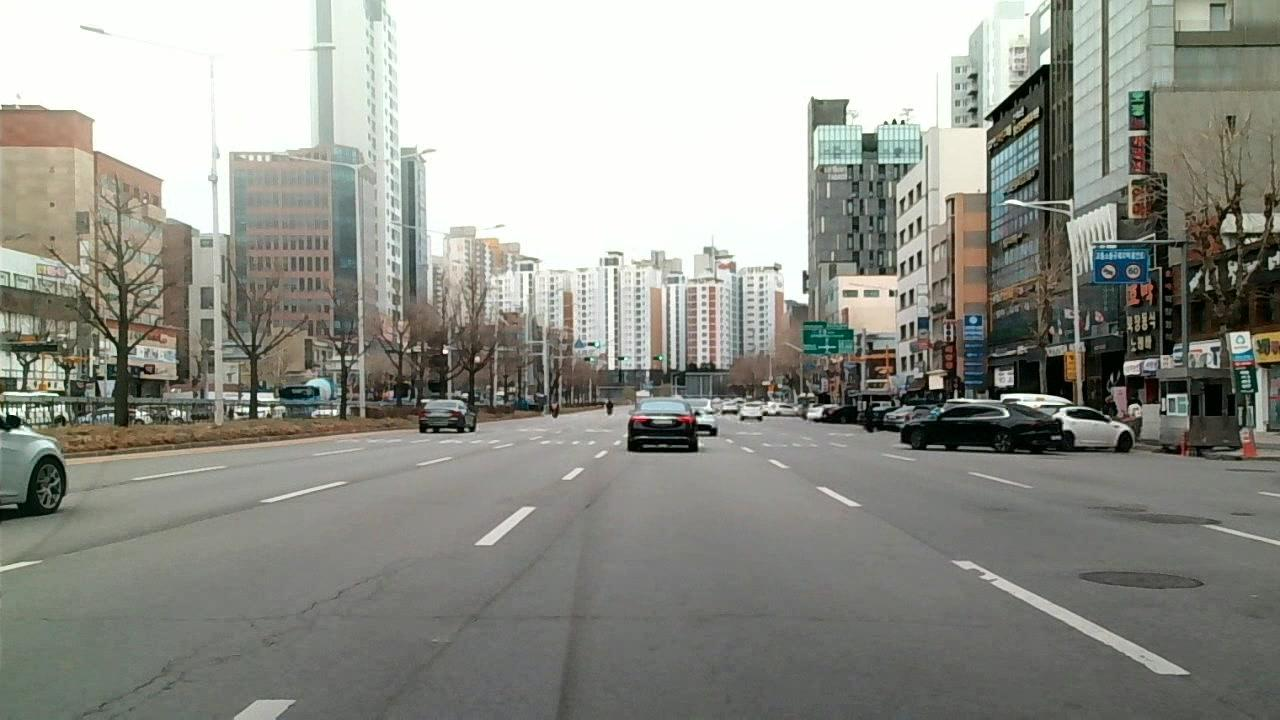hcrack: (424, 608, 845, 627)
vcrack: (75, 647, 199, 720), (210, 596, 325, 656), (372, 640, 453, 712), (474, 547, 549, 606), (329, 557, 402, 614), (1183, 677, 1251, 718), (579, 477, 615, 513)
